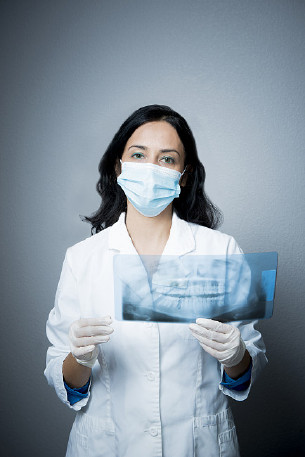face_mask: (120, 123, 183, 215)
